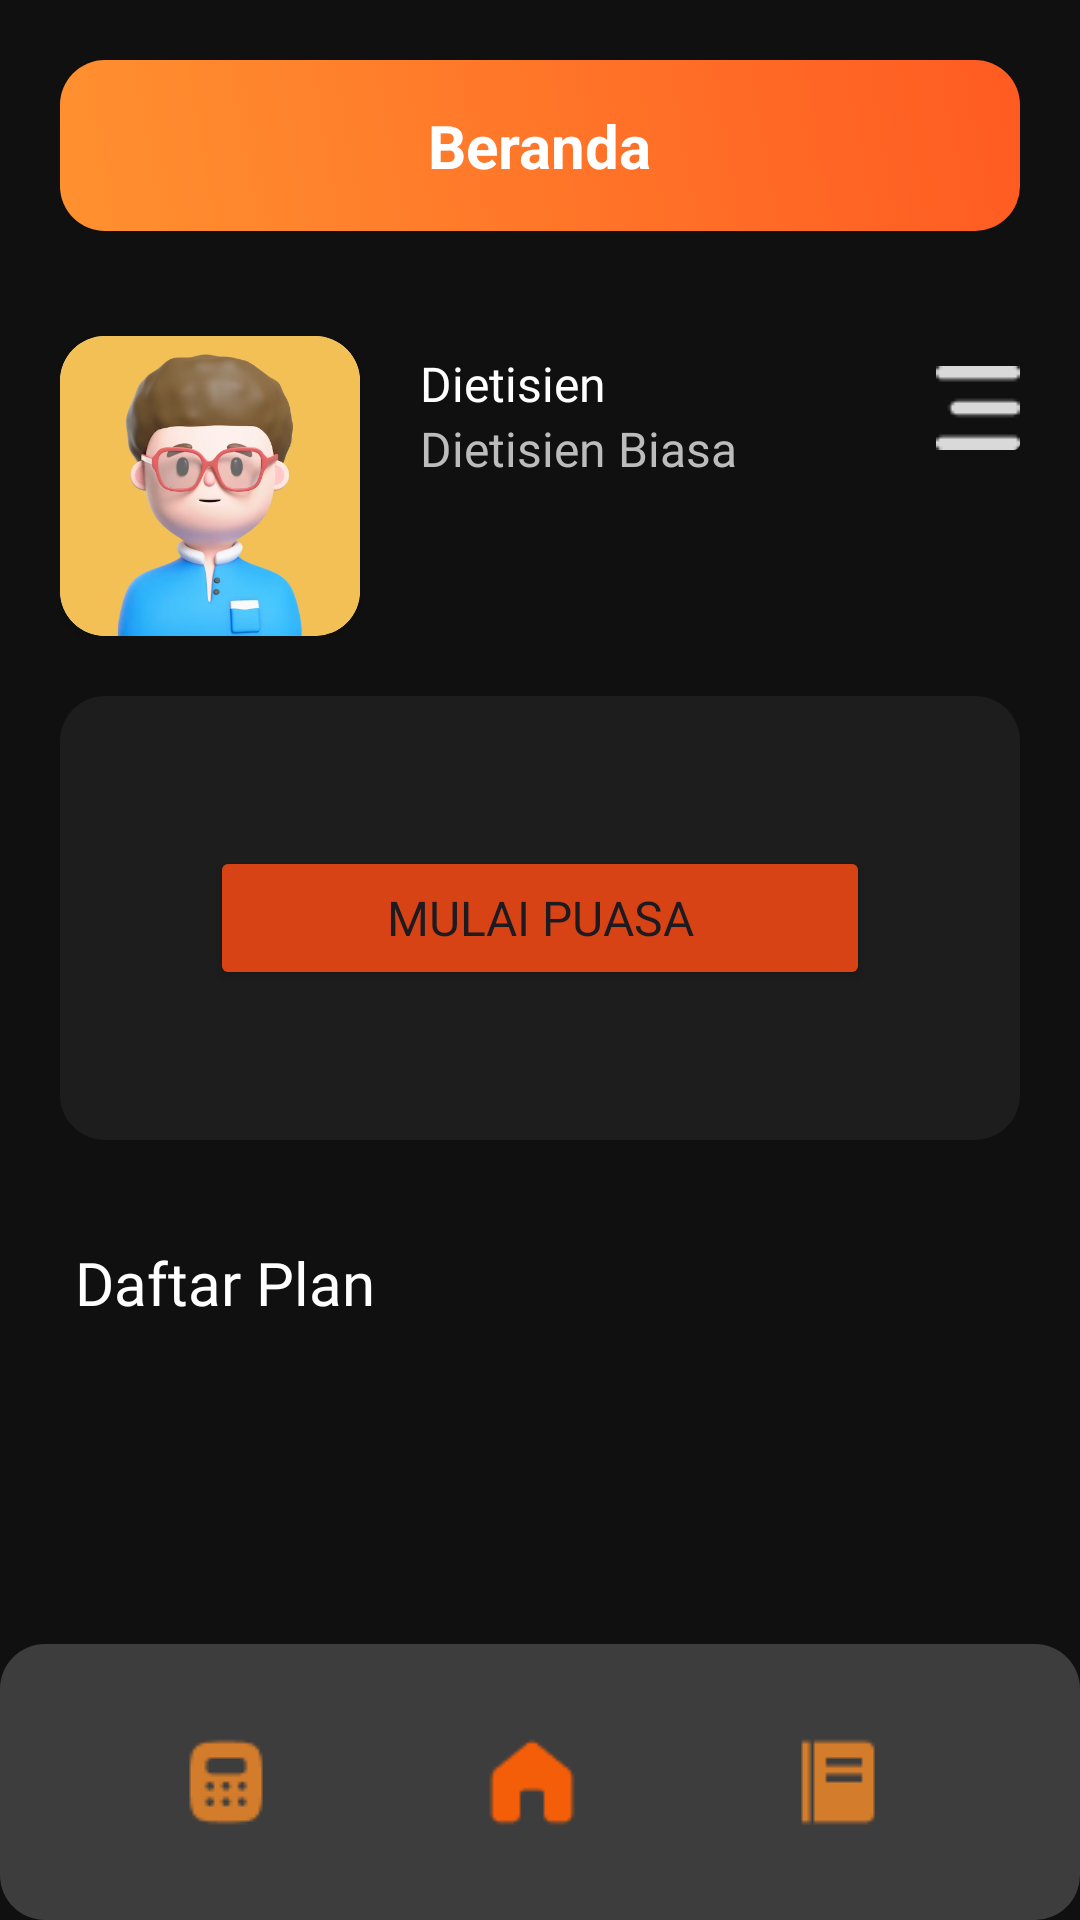

Screen size 1080px×1920px. Icon name, then its box in pixels as (x1, y1, x2, y2):
calculator: (189, 1740, 263, 1824)
ham menu: (936, 366, 1020, 450)
home: (490, 1740, 574, 1824)
